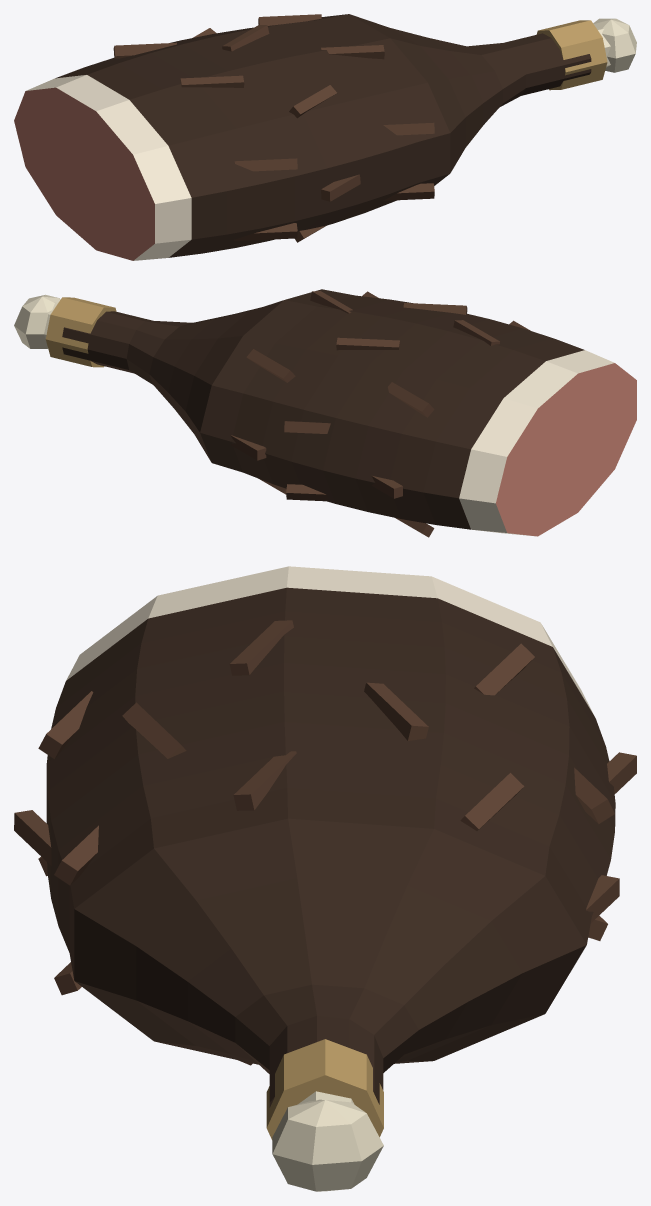
File: mdvl_food_ham_01.glb
3 views of the same model, one above another, from view 1: azimuth 30°, elevation 25°; view 2: azimuth 150°, elevation 25°; view 3: azimuth 270°, elevation 25° (orthographic). The views are drawn at different scales.
Visible parts, largest first — view 1: mdvl_food_ham_01; view 2: mdvl_food_ham_01; view 3: mdvl_food_ham_01.
Boxes of the visible parts, x1=… form: mdvl_food_ham_01: x1=14, y1=14, x2=636, y2=260; mdvl_food_ham_01: x1=14, y1=289, x2=636, y2=537; mdvl_food_ham_01: x1=14, y1=566, x2=636, y2=1191.
Bounding box in the file's own units: 0.4024 × 0.1138 × 0.223.
Materials: 1 (1 with a texture image).
